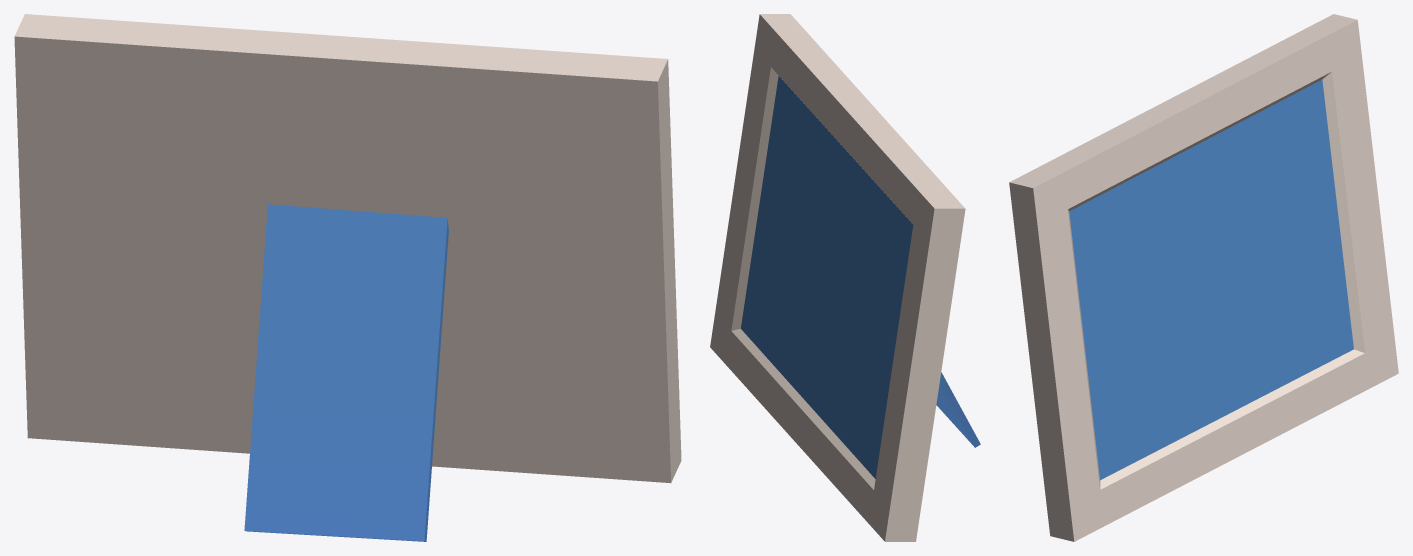
The model's file is Living_Room_photoframe.fbx.
3 renders of one model, left to right at view 1: azimuth 30°, elevation 25°; view 2: azimuth 150°, elevation 25°; view 3: azimuth 270°, elevation 25°, orthographic. The views are drawn at different scales.
Parts seen in each view (by area): view 1: Living_Room_photoframe; view 2: Living_Room_photoframe; view 3: Living_Room_photoframe.
Part boxes in pixels (<box>): Living_Room_photoframe: <box>14,14,681,541</box>; Living_Room_photoframe: <box>710,14,980,541</box>; Living_Room_photoframe: <box>1009,14,1398,541</box>.
Bounding box in the file's own units: 21.36 × 17.77 × 18.24.
